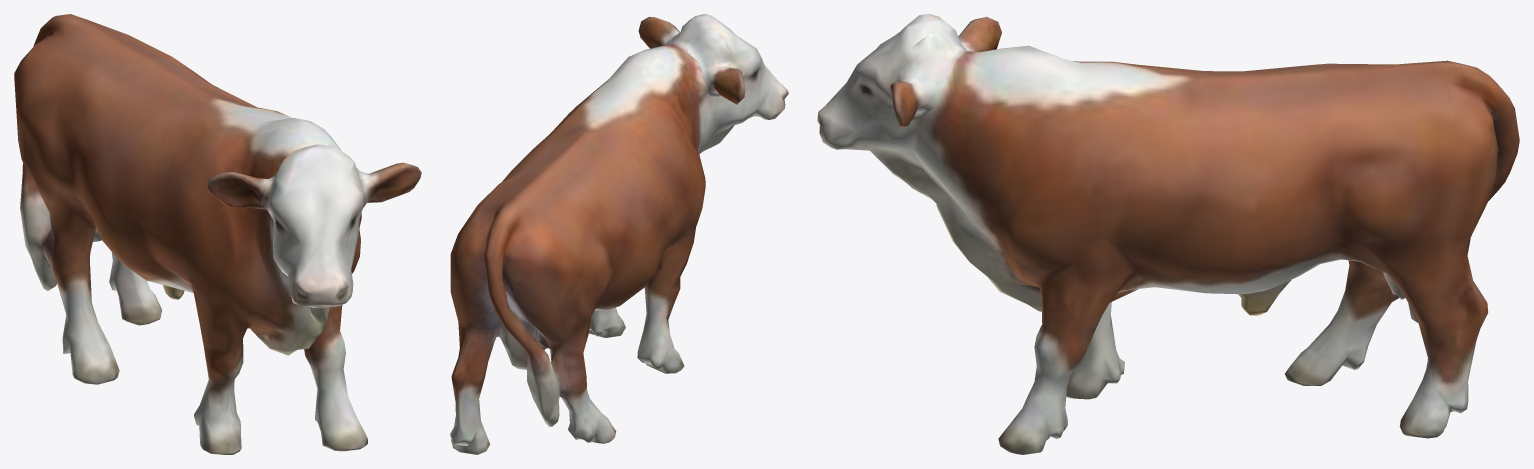
The model's file is gso_schleich_hereford_bull.glb.
The picture shows the model from 3 angles, left to right: view 1: azimuth 30°, elevation 25°; view 2: azimuth 150°, elevation 25°; view 3: azimuth 270°, elevation 25°; orthographic projection. The views are drawn at different scales.
Visible parts, largest first — view 1: z-up-to-y-up; view 2: z-up-to-y-up; view 3: z-up-to-y-up.
Boxes of the visible parts, box(x1,y1,x2,y2) form: z-up-to-y-up: box(14, 14, 421, 454); z-up-to-y-up: box(450, 14, 788, 454); z-up-to-y-up: box(817, 14, 1519, 454).
Size of the model in its own units: 0.0437 by 0.0815 by 0.1342.
1 material, 1 textured.
